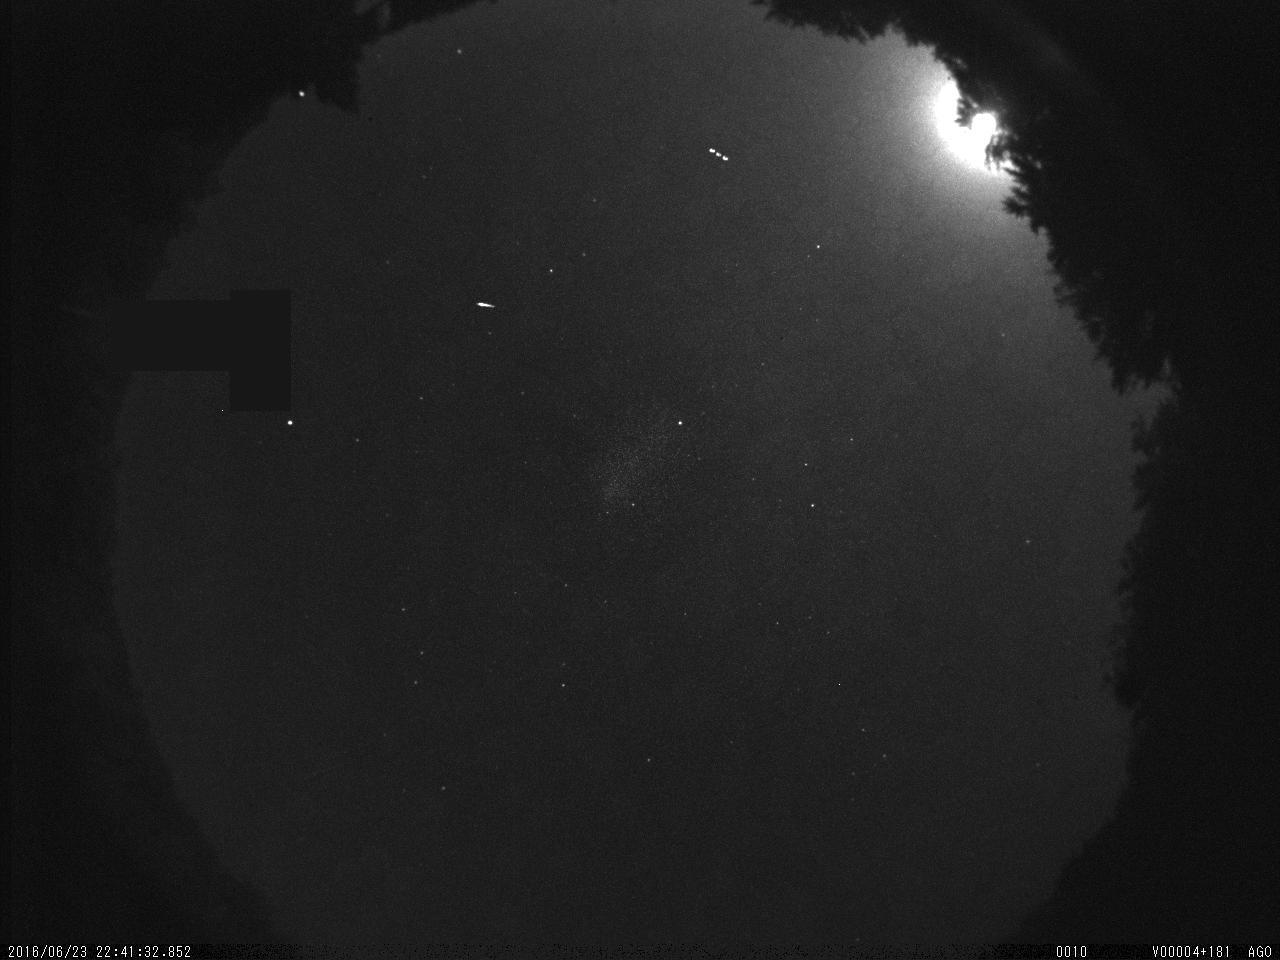meteor: (471, 295, 507, 316)
satelite: (705, 141, 734, 168)
